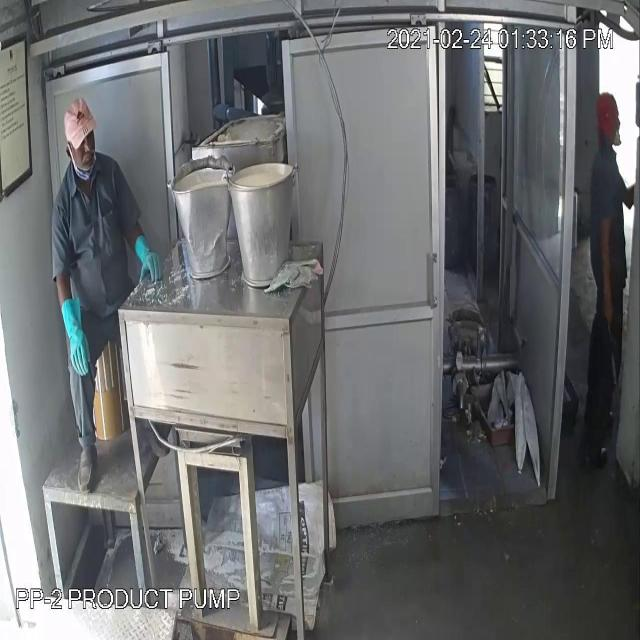no-helmet: (58, 97, 101, 156)
